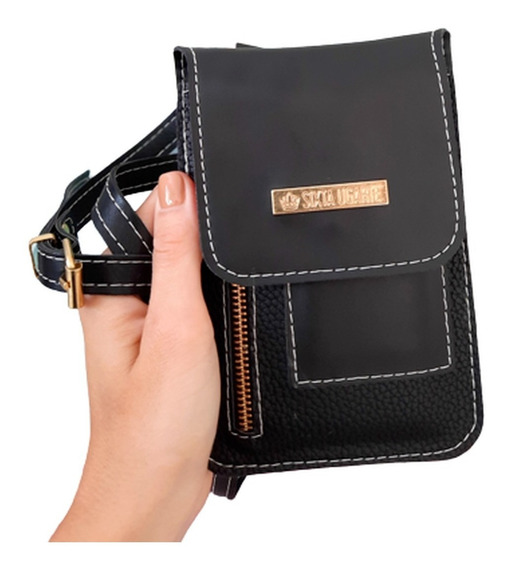cartera: (162, 25, 488, 476)
